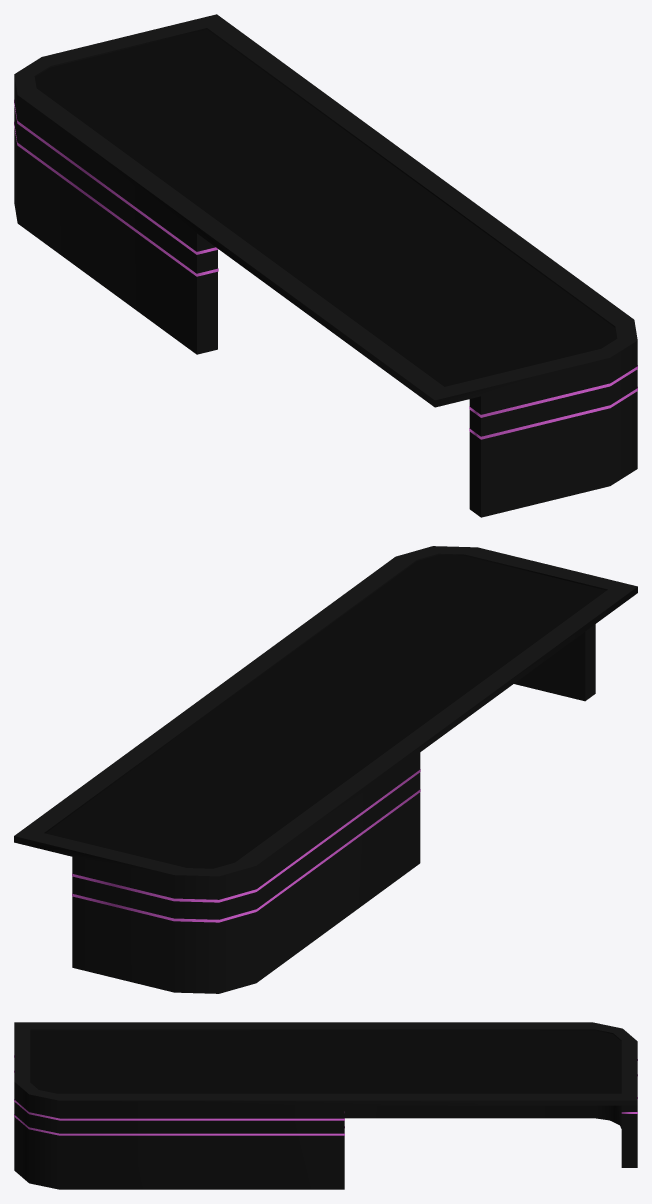
Rendered from W_O_maze_Desk_001_L1.fbx.
The picture shows the model from 3 angles, top to bottom: view 1: azimuth 30°, elevation 25°; view 2: azimuth 150°, elevation 25°; view 3: azimuth 270°, elevation 25°; orthographic projection. The views are drawn at different scales.
Visible parts, largest first — view 1: W_O_maze_Desk_001_L1; view 2: W_O_maze_Desk_001_L1; view 3: W_O_maze_Desk_001_L1.
Part boxes in pixels (x1,y1,x2,y2): W_O_maze_Desk_001_L1: (14, 14, 637, 517); W_O_maze_Desk_001_L1: (14, 546, 637, 993); W_O_maze_Desk_001_L1: (14, 1022, 637, 1189).
Bounding box in the file's own units: 0.9483 × 3.18 × 0.5.
